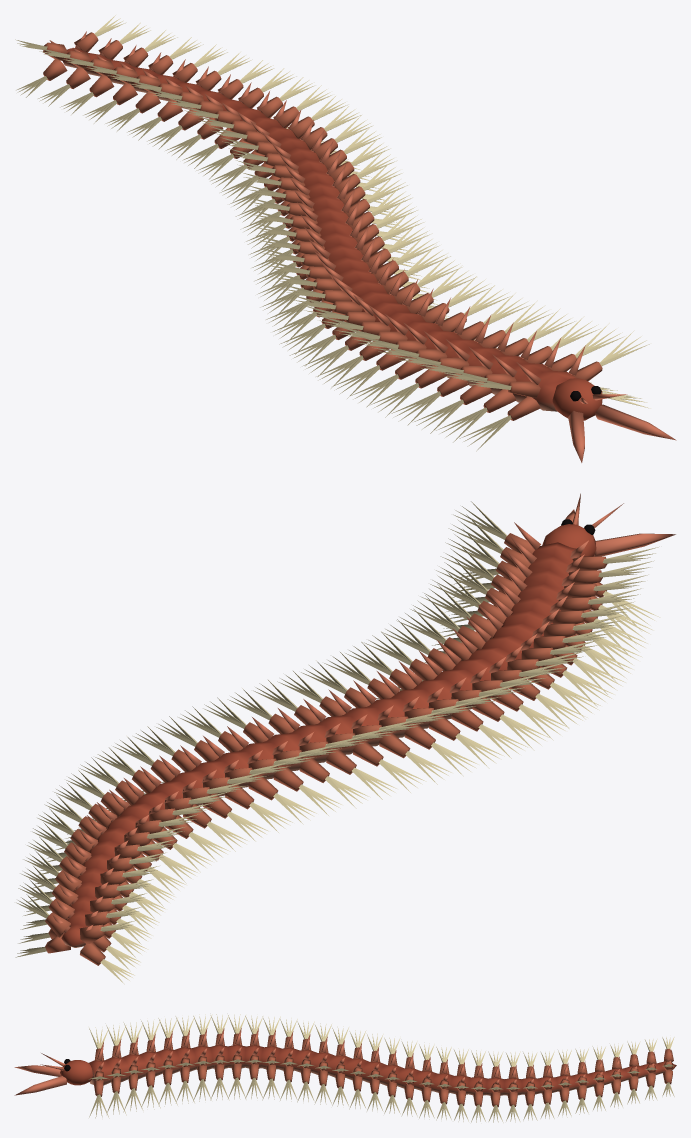
File: KenostrychusClementsi.fbx
3 renders of one model, top to bottom at view 1: azimuth 30°, elevation 25°; view 2: azimuth 150°, elevation 25°; view 3: azimuth 270°, elevation 25°, orthographic. The views are drawn at different scales.
Visible parts, largest first — view 1: KenostrychusClementsi; view 2: KenostrychusClementsi; view 3: KenostrychusClementsi.
Part boxes in pixels (box(x1,y1,x2,y2)): KenostrychusClementsi: box(15, 15, 676, 462); KenostrychusClementsi: box(15, 493, 675, 984); KenostrychusClementsi: box(14, 1014, 676, 1122).
Size of the model in its own units: 0.3493 by 0.0908 by 1.3.
